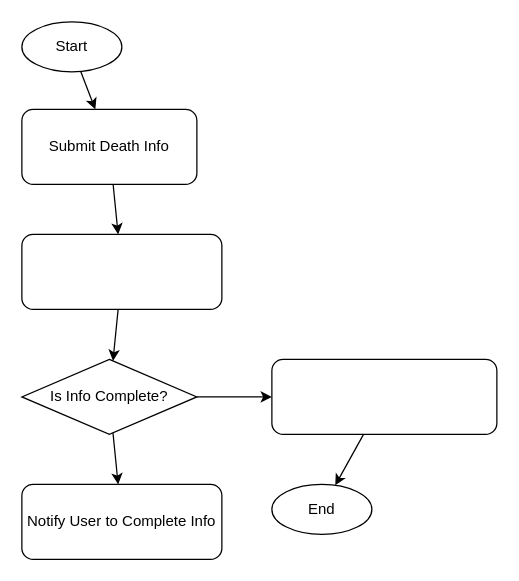
Image size: 519x581. Some labels were removed from this diagram. The box of each missing label's shape, as (x1, y1, x2, y2) in pixels:
Register Death Record: (271, 358, 497, 434)
Verify Cause of Death: (21, 233, 222, 309)
